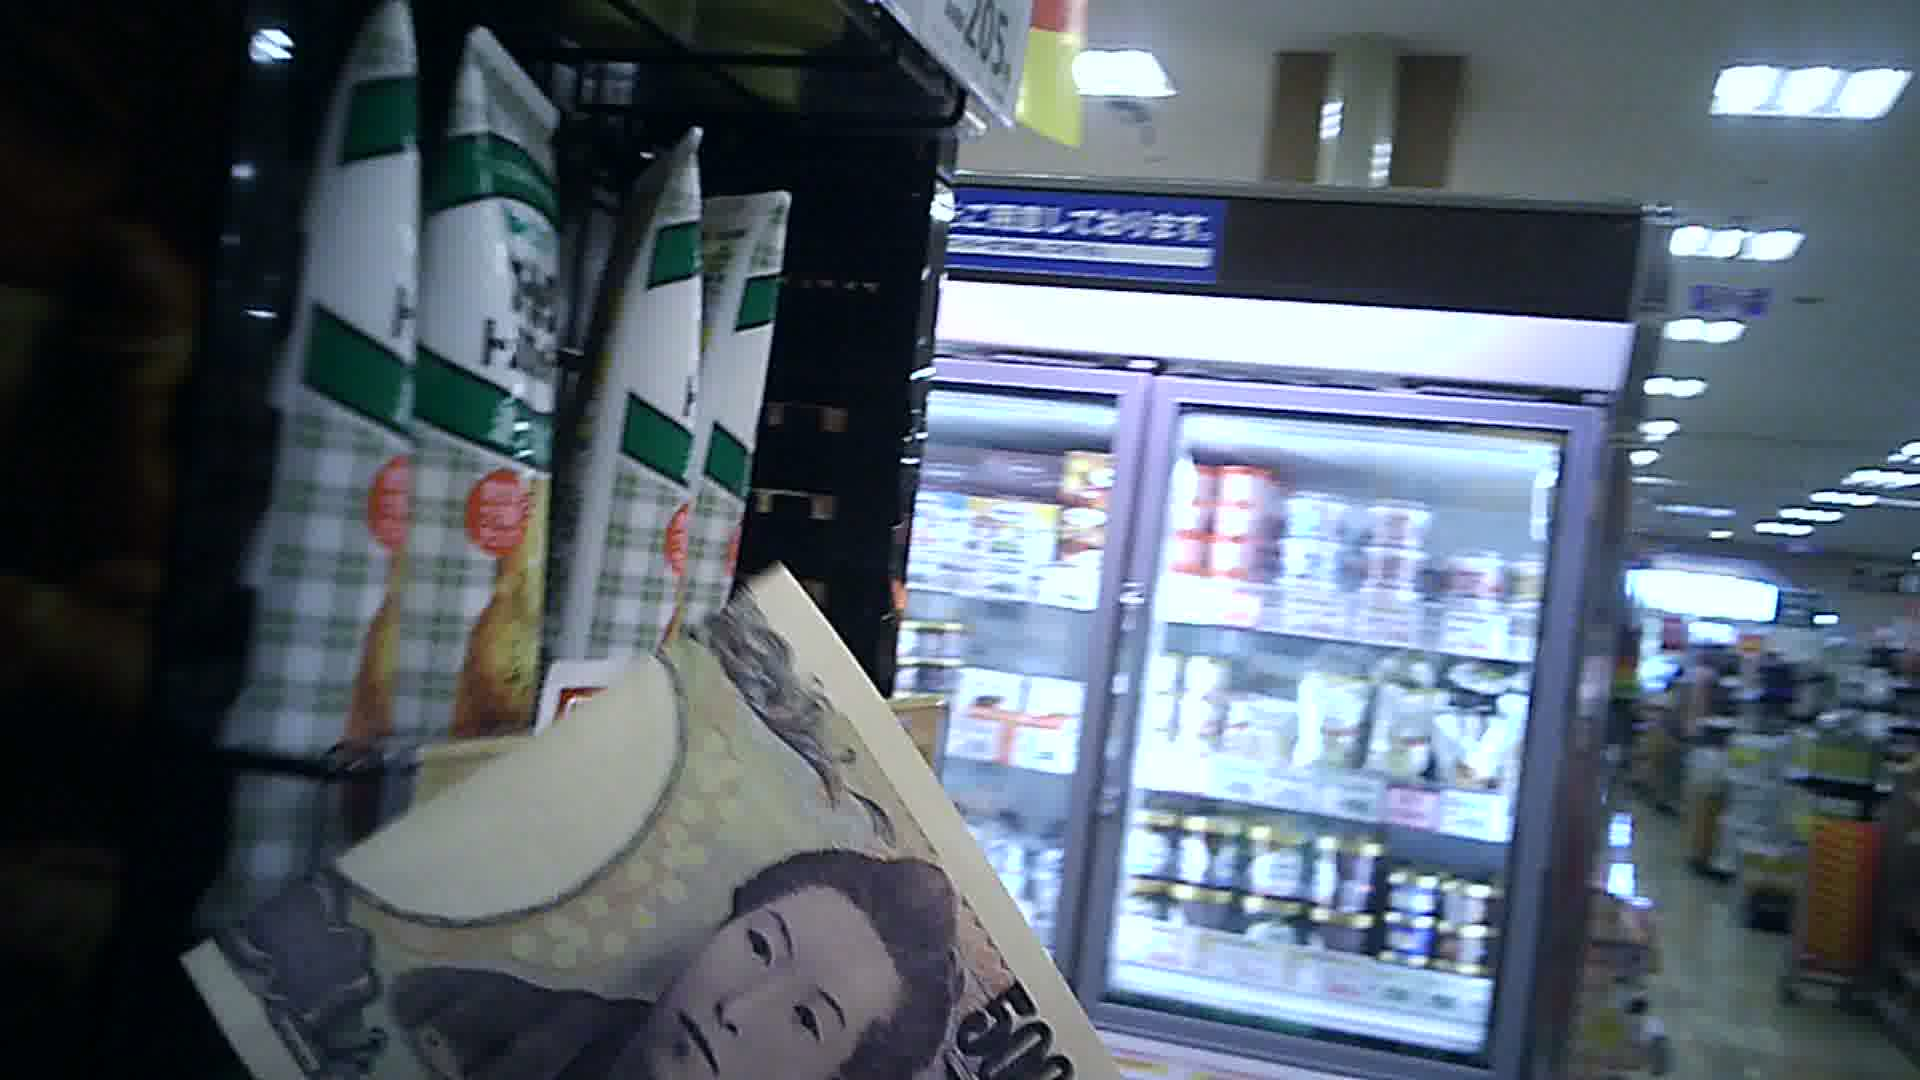5,000 Yen: (204, 524, 1108, 1079)
